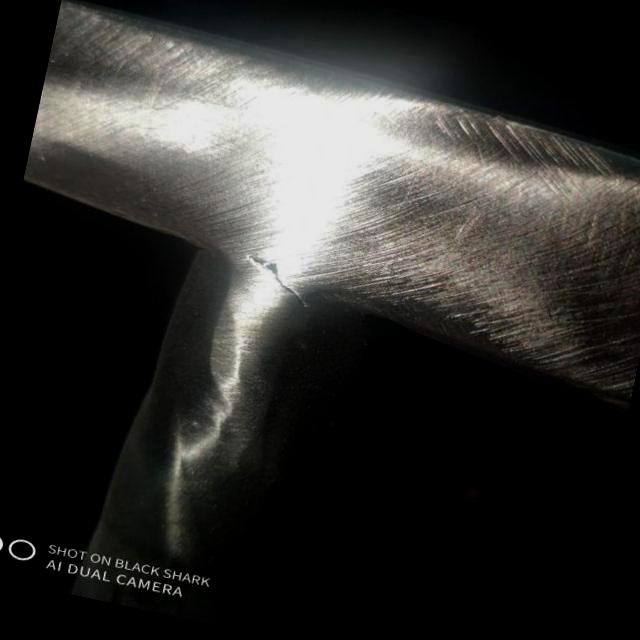defect: (242, 249, 309, 309)
